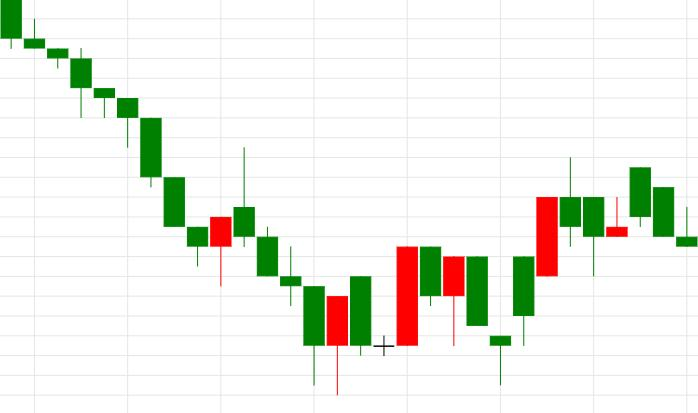bullish_engulfing_rise: (0, 0, 233, 287)
